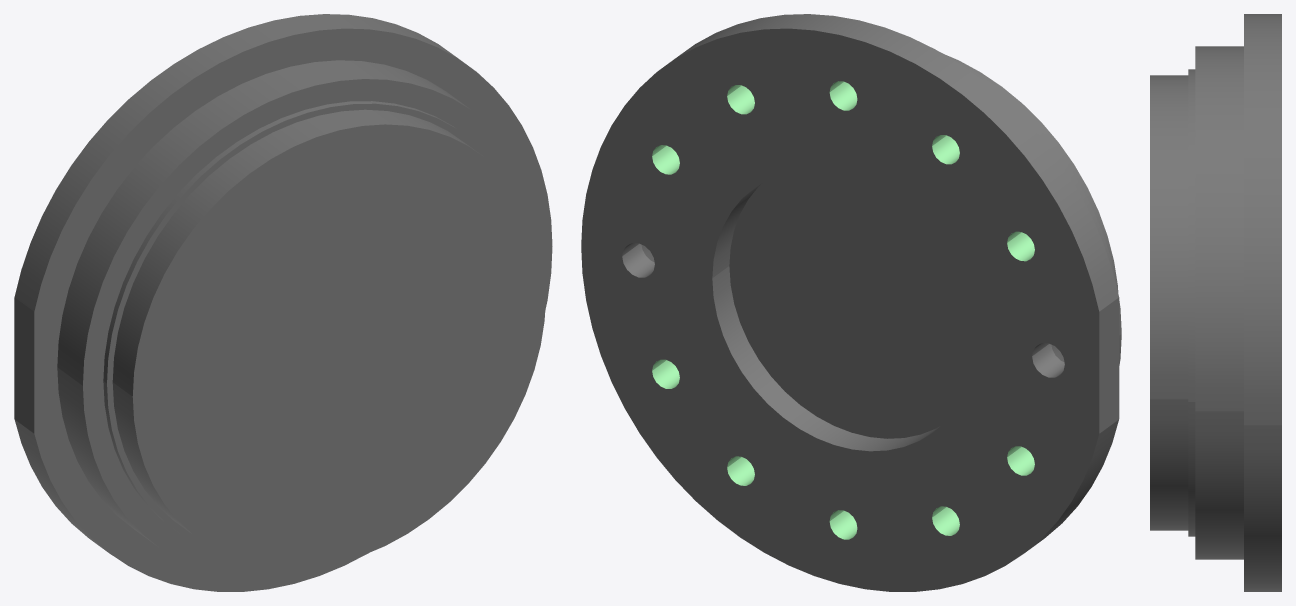
3 views of the same model, side by side, from view 1: azimuth 30°, elevation 25°; view 2: azimuth 150°, elevation 25°; view 3: azimuth 270°, elevation 25° (orthographic). The views are drawn at different scales.
Parts seen in each view (by area): view 1: Mesh_0; view 2: Mesh_0; view 3: Mesh_0.
Part boxes in pixels (x1,y1,x2,y2): Mesh_0: [14, 14, 552, 591]; Mesh_0: [581, 14, 1121, 591]; Mesh_0: [1150, 14, 1281, 591].
Size of the model in its own units: 0.158 by 0.16 by 0.0365.
